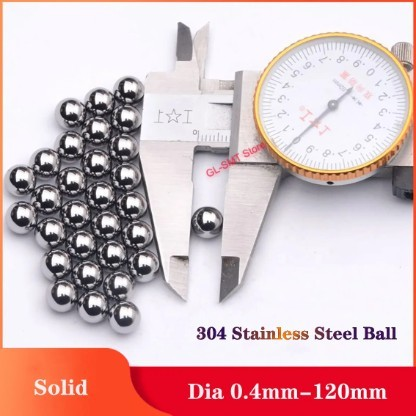ironball: (4, 200, 37, 234), (107, 300, 140, 333), (76, 289, 108, 323), (45, 278, 77, 312), (127, 248, 159, 282), (39, 247, 71, 281), (190, 206, 223, 238), (34, 216, 66, 249), (102, 269, 134, 301), (54, 97, 86, 129), (28, 147, 60, 179), (4, 163, 35, 196), (30, 183, 61, 215), (64, 228, 96, 259), (53, 130, 85, 161), (71, 259, 102, 290), (80, 148, 111, 179), (121, 219, 153, 249), (115, 190, 147, 220), (110, 103, 141, 133), (96, 239, 127, 269), (108, 132, 139, 162), (90, 209, 121, 239), (110, 161, 141, 191), (59, 198, 90, 228), (55, 166, 86, 196), (112, 75, 144, 104), (85, 180, 115, 210), (84, 86, 114, 115), (81, 115, 111, 144)
